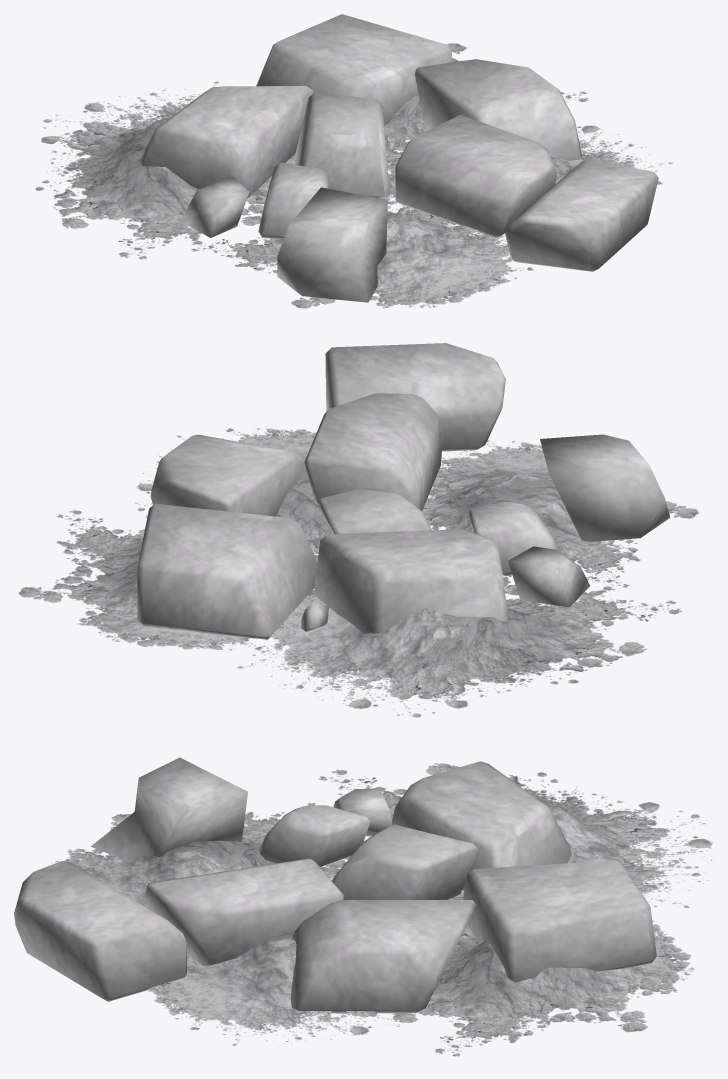
The model's file is cocaine.glb.
The picture shows the model from 3 angles, top to bottom: view 1: azimuth 30°, elevation 25°; view 2: azimuth 150°, elevation 25°; view 3: azimuth 270°, elevation 25°; orthographic projection. The views are drawn at different scales.
Parts seen in each view (by area): view 1: Coke Cut2; view 2: Coke Cut2; view 3: Coke Cut2.
Part boxes in pixels (x1,y1,x2,y2): Coke Cut2: [35, 14, 672, 308]; Coke Cut2: [18, 343, 698, 717]; Coke Cut2: [14, 757, 712, 1056].
Bounding box in the file's own units: 0.438 × 0.0503 × 0.4248.
2 materials, 2 textured.
